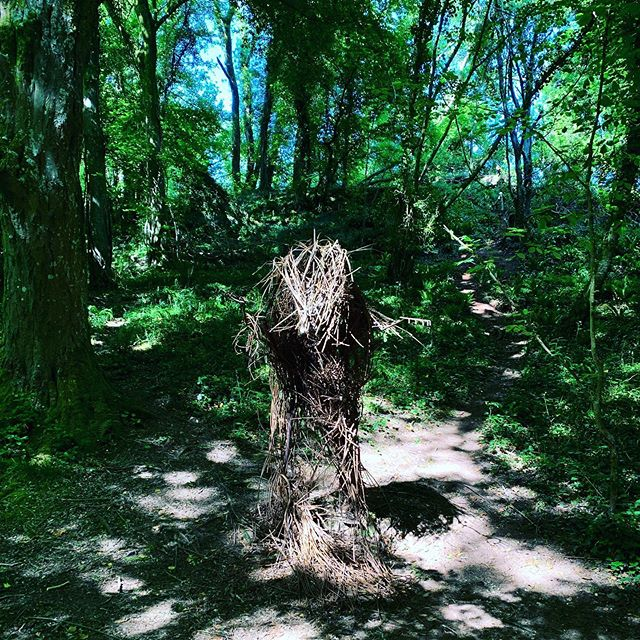vegetation: (1, 1, 621, 618)
